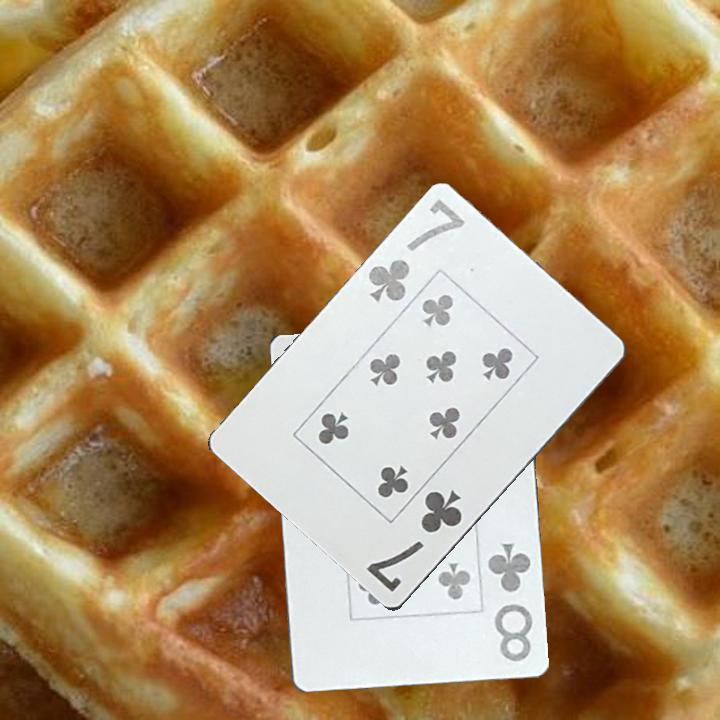7c: (364, 195, 469, 306), (362, 486, 465, 597)
8c: (483, 539, 535, 664)
